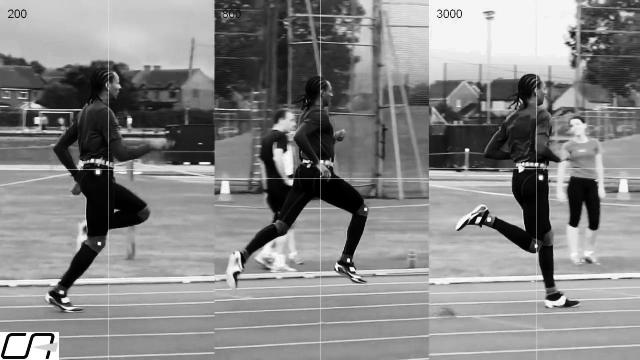berlari: (221, 63, 381, 297), (32, 59, 162, 325), (452, 69, 584, 311)
